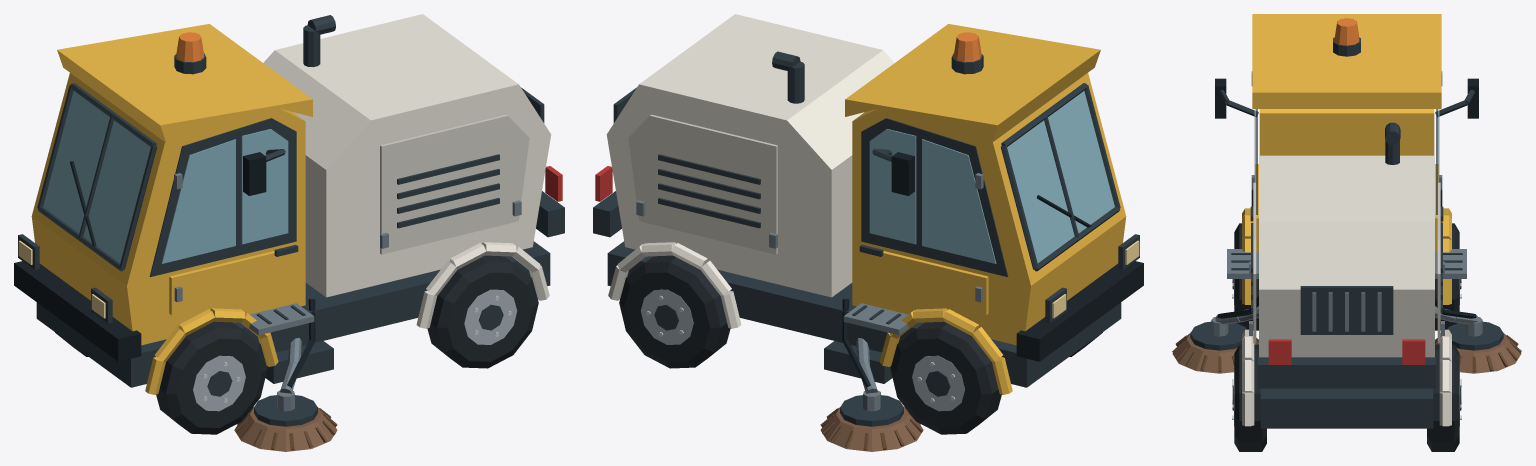
The model's file is b04_compact_municipal_street_sweeper.glb.
3 renders of one model, left to right at view 1: azimuth 30°, elevation 25°; view 2: azimuth 150°, elevation 25°; view 3: azimuth 270°, elevation 25°, orthographic. The views are drawn at different scales.
Parts seen in each view (by area): view 1: b04_compact_municipal_street_sweeper; view 2: b04_compact_municipal_street_sweeper; view 3: b04_compact_municipal_street_sweeper.
Part boxes in pixels (left/top/right/bottom): b04_compact_municipal_street_sweeper: left=14, top=14, right=564, bottom=451; b04_compact_municipal_street_sweeper: left=593, top=14, right=1143, bottom=451; b04_compact_municipal_street_sweeper: left=1172, top=14, right=1521, bottom=451.
Bounding box in the file's own units: 2.98 × 2.16 × 2.14.
